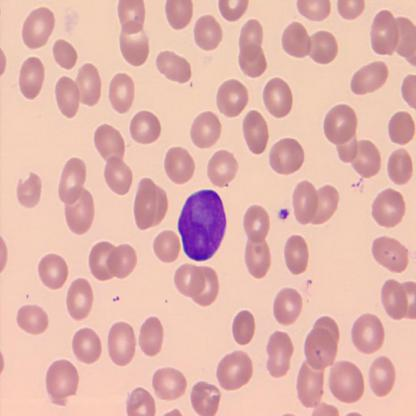Blast: (176, 186, 227, 264)
